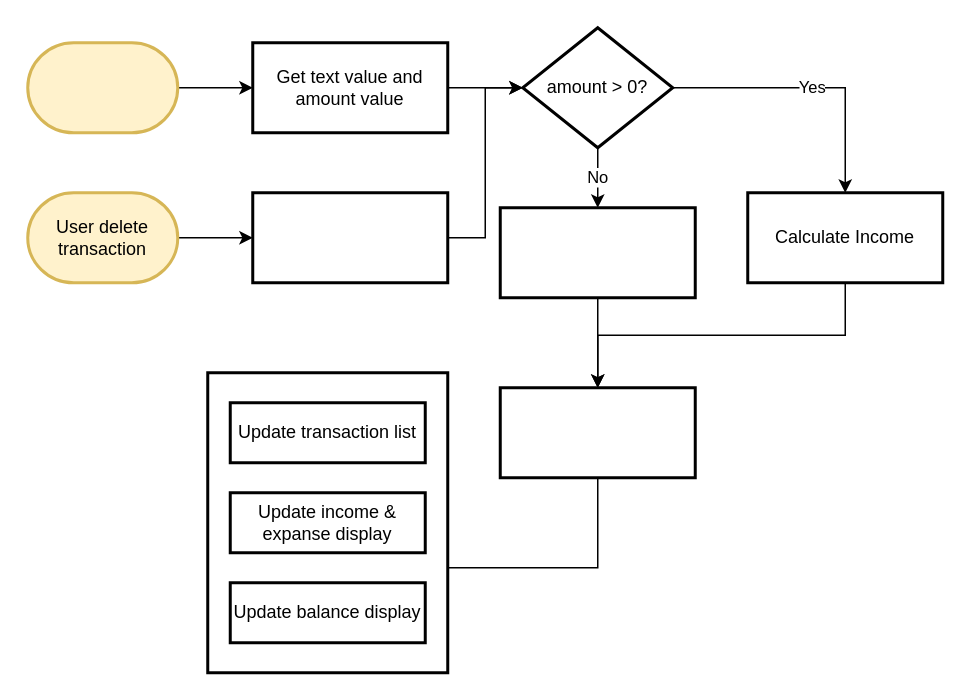
Image size: 969x699. Some labels were removed from this diagram. The box of each missing label's shape, as (x1, y1, x2, y2) in pixels:
Calculate balance: (498, 386, 696, 478)
Calculate Expanse: (498, 206, 696, 298)
get amount value: (250, 190, 448, 284)
User add transaction: (26, 40, 178, 134)
